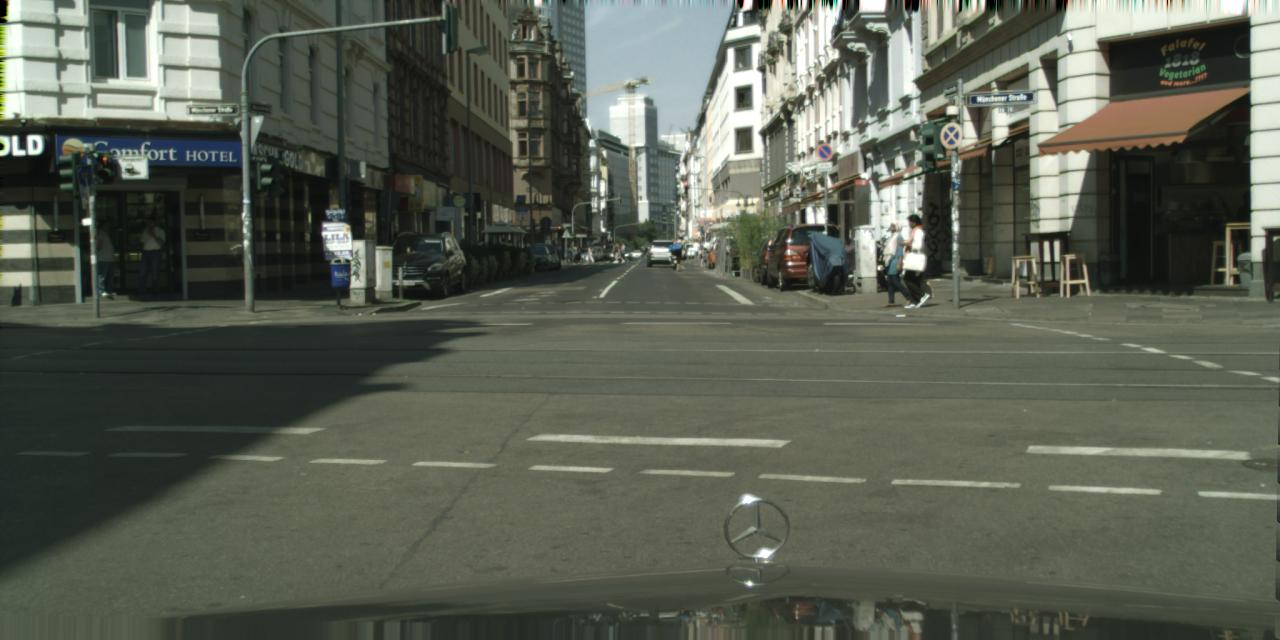ped: (896, 214, 934, 306), (878, 218, 913, 306), (90, 218, 122, 298), (133, 217, 165, 295), (474, 237, 488, 272), (456, 240, 470, 275), (670, 240, 684, 270), (496, 238, 508, 267), (505, 240, 515, 266), (614, 241, 622, 263), (698, 246, 706, 266), (692, 240, 700, 259), (670, 241, 678, 260), (619, 242, 626, 262), (586, 246, 593, 263), (565, 244, 572, 261), (576, 243, 582, 259)
